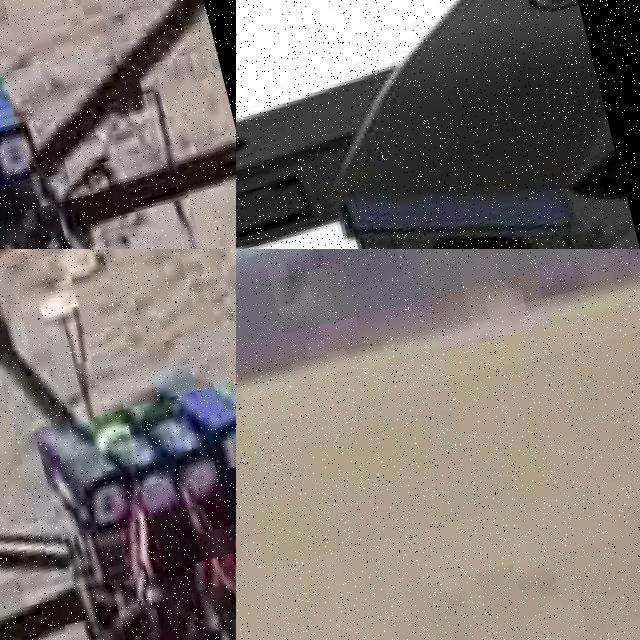drone: (236, 0, 640, 249), (0, 249, 236, 640), (0, 0, 236, 249)
